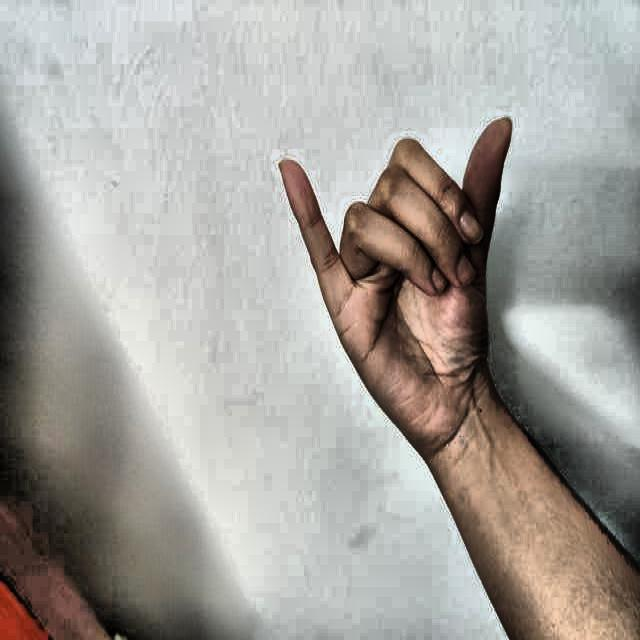Oi: (251, 64, 543, 476)
